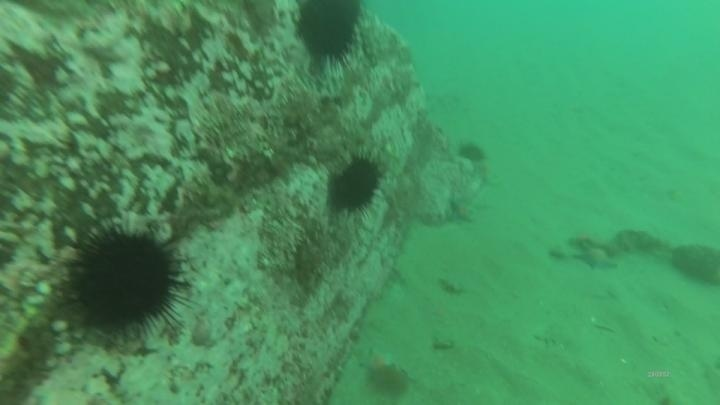echinus: (62, 218, 191, 344), (292, 1, 366, 71), (323, 150, 387, 219), (455, 139, 489, 167)
starfish: (571, 244, 620, 274), (356, 345, 399, 377), (443, 193, 480, 220)
